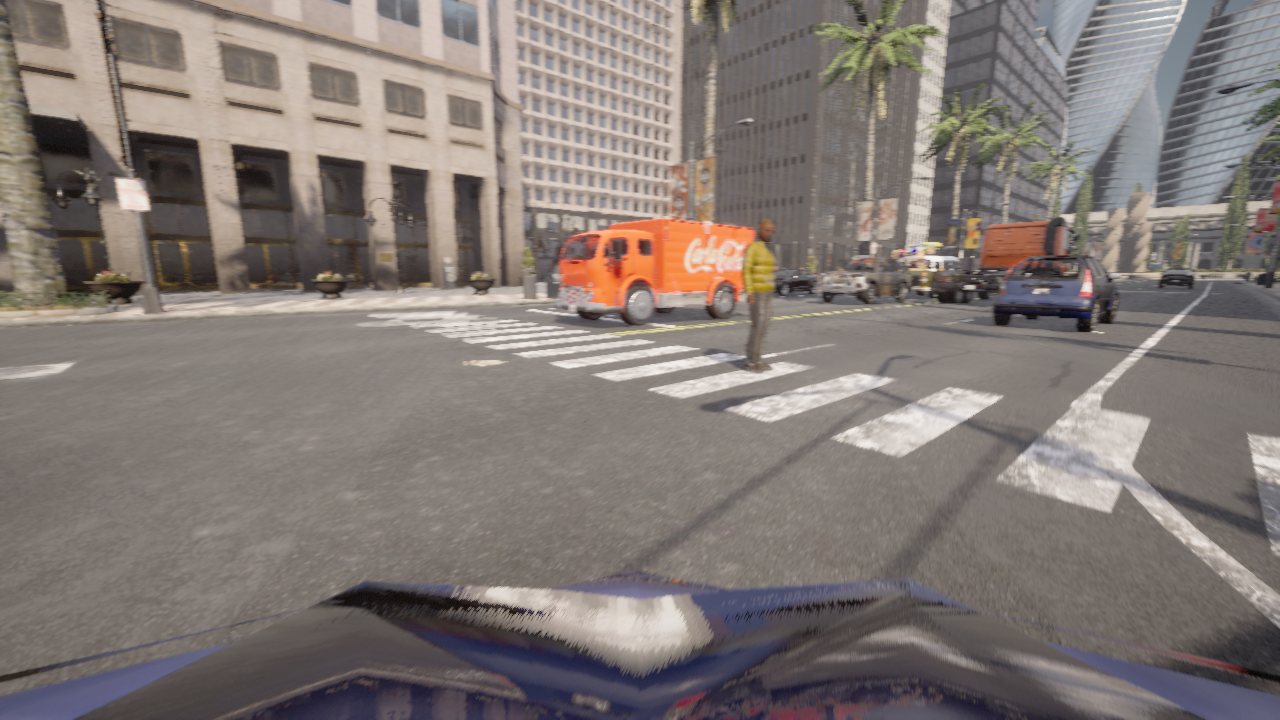cyclist: (0, 569, 1279, 719), (555, 218, 753, 326), (931, 217, 1078, 303), (992, 255, 1120, 332), (818, 256, 911, 304), (899, 256, 960, 299), (774, 268, 818, 295), (1158, 268, 1197, 288)
pedestrian: (742, 220, 774, 372)
